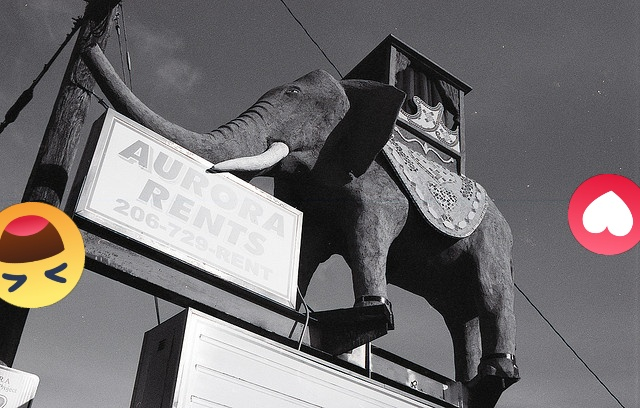haha: (0, 202, 85, 308)
love: (568, 174, 640, 255)
